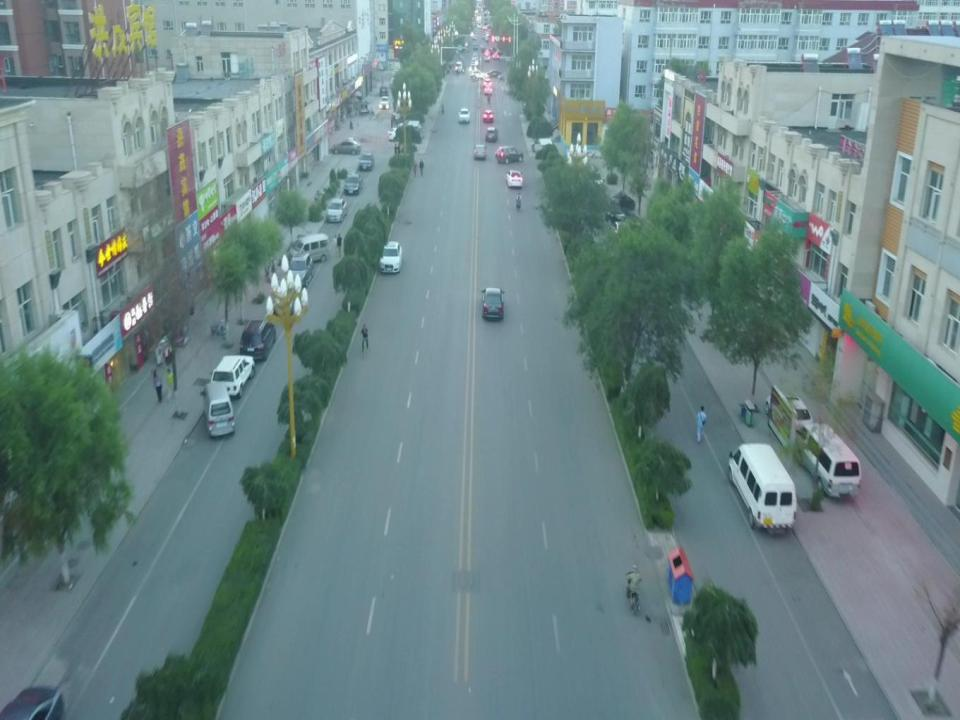car: (764, 394, 814, 438), (210, 354, 255, 399), (239, 319, 276, 361), (604, 206, 643, 235), (286, 251, 314, 291), (481, 287, 505, 320), (379, 240, 402, 274), (326, 197, 348, 222), (608, 193, 635, 213), (495, 145, 524, 163), (585, 163, 604, 188), (329, 140, 361, 154), (385, 126, 413, 142), (343, 173, 362, 195), (357, 152, 375, 172), (505, 170, 522, 188), (484, 126, 498, 141), (473, 143, 486, 158), (378, 95, 390, 109), (482, 109, 494, 123), (458, 108, 470, 122), (470, 70, 488, 79), (485, 70, 502, 79), (378, 85, 388, 97), (482, 79, 492, 88), (484, 85, 492, 94)
van: (726, 442, 798, 536), (794, 422, 861, 502), (199, 381, 236, 438), (285, 234, 329, 266)
